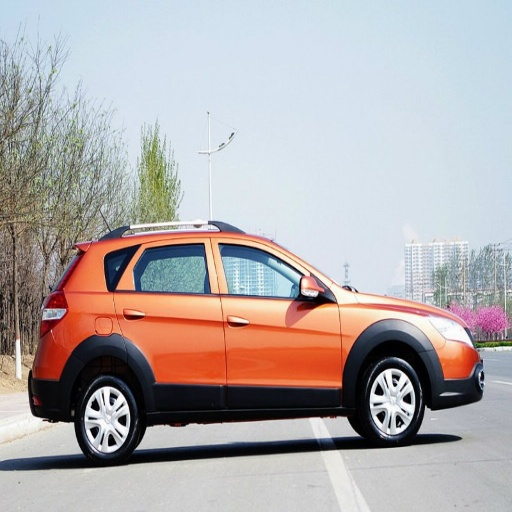back_right_door: (116, 233, 225, 407)
front_right_door: (213, 233, 341, 405)
